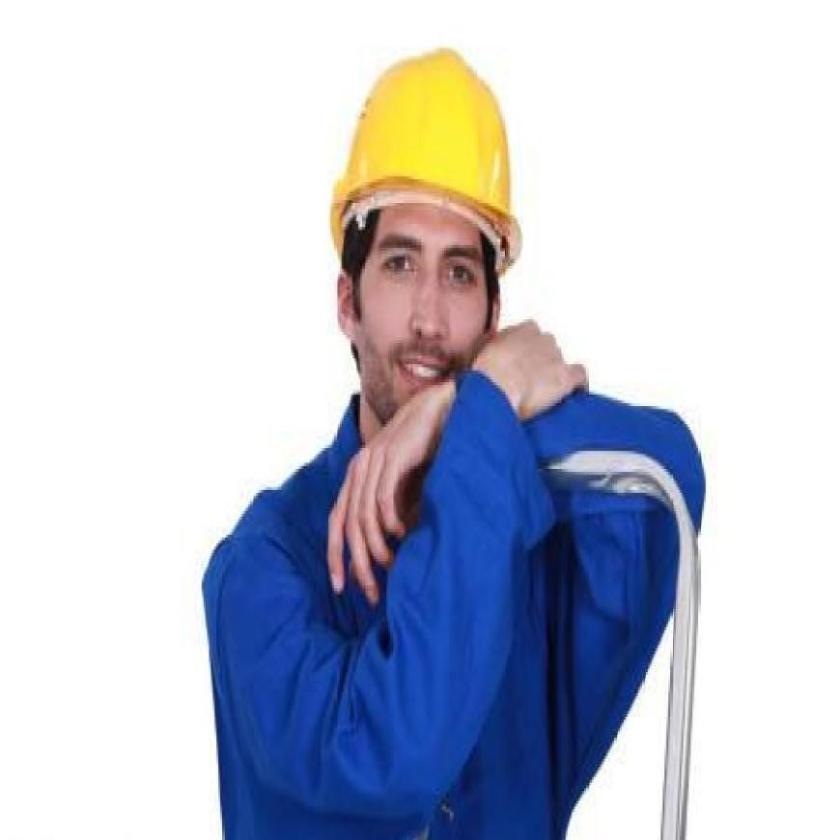Con_casco: (311, 38, 530, 446)
